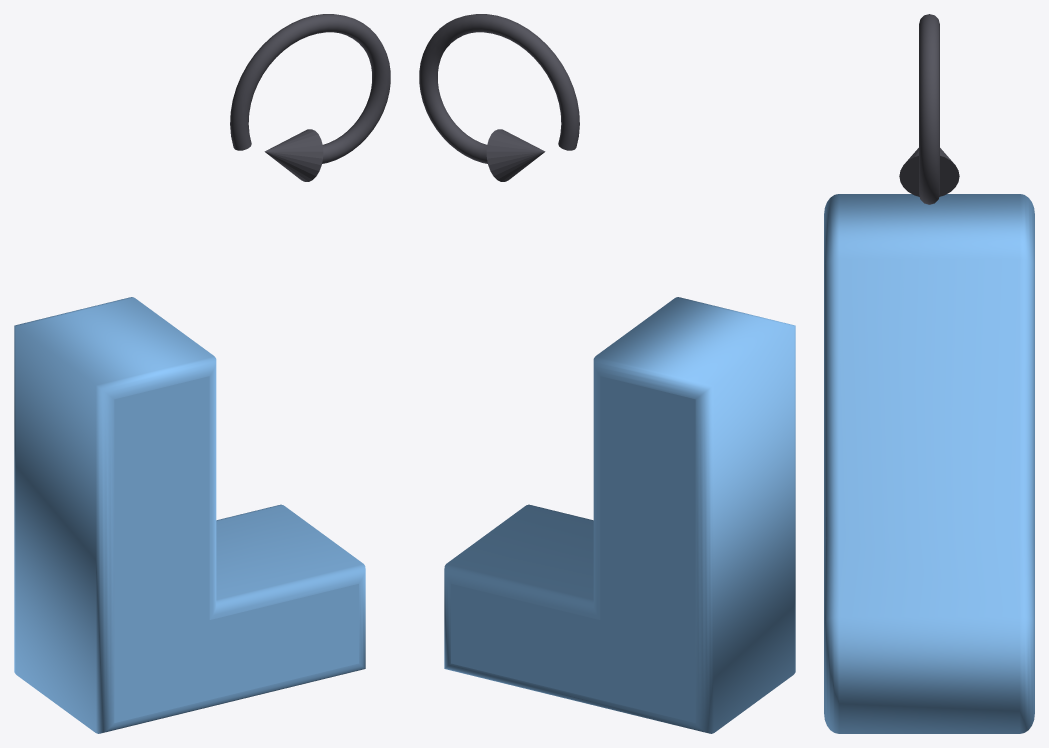
The picture shows the model from 3 angles, left to right: view 1: azimuth 30°, elevation 25°; view 2: azimuth 150°, elevation 25°; view 3: azimuth 270°, elevation 25°; orthographic projection. The views are drawn at different scales.
Parts seen in each view (by area): view 1: Lettre_L, Boucle, Fleche; view 2: Lettre_L, Boucle, Fleche; view 3: Lettre_L, Boucle, Fleche.
Boxes of the visible parts, box(x1,y1,x2,y2) form: Lettre_L: box(14, 297, 365, 733); Boucle: box(230, 14, 390, 163); Fleche: box(264, 129, 323, 181); Lettre_L: box(444, 297, 795, 733); Boucle: box(419, 14, 579, 163); Fleche: box(486, 129, 545, 181); Lettre_L: box(824, 194, 1034, 733); Boucle: box(919, 14, 939, 204); Fleche: box(899, 148, 959, 196).
Size of the model in its own units: 1.44 by 2.58 by 0.7.
